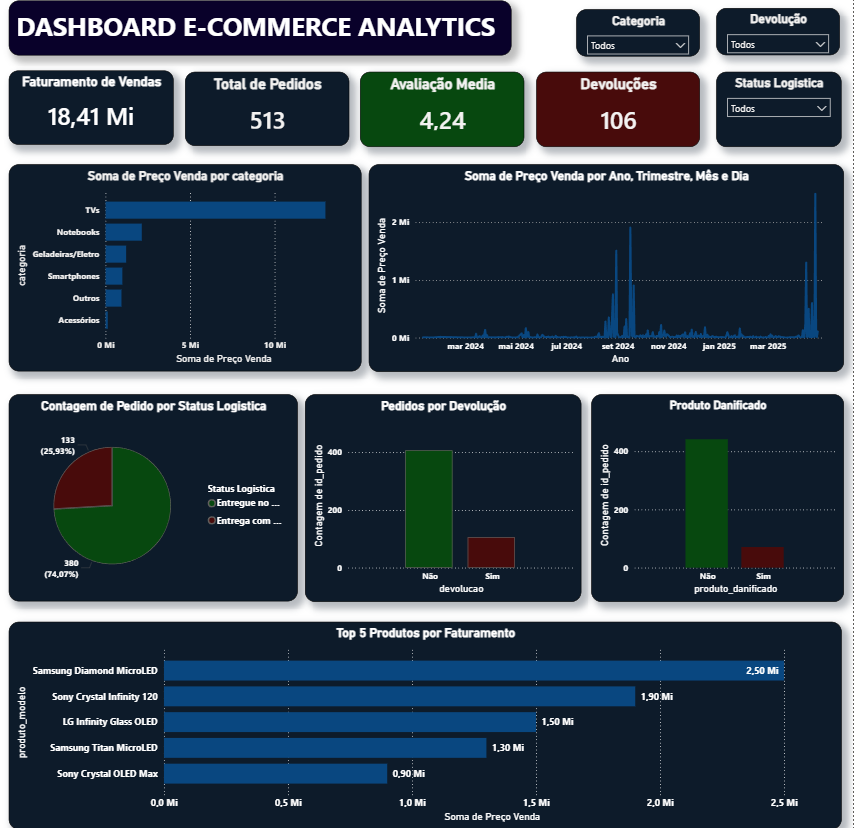

Layout of this report page (visuals, bound fields, positions):
{"tool":"powerbi","page":{"name":"Página 1","canvas":[1250,1250],"ordinal":0},"visuals":[{"type":"cardVisual","title":"Faturamento de Vendas","fields":{"Data":["Sum(ecommerce_db pedidos.preco_venda)"]},"box":[20.4,113.1,240.3,108.4],"z":0},{"type":"barChart","fields":{"Category":["ecommerce_db pedidos.categoria"],"Y":["Sum(ecommerce_db pedidos.preco_venda)"]},"box":[20.4,249.7,513.5,301.5],"z":1000},{"type":"pieChart","title":"Contagem de Pedido por Status Logistica","fields":{"Category":["ecommerce_db pedidos.status_logistica"],"Y":["CountNonNull(ecommerce_db pedidos.id_pedido)"]},"box":[20.4,584.2,420.9,301.5],"z":2000},{"type":"columnChart","title":"Pedidos por Devolução","fields":{"Category":["ecommerce_db pedidos.devolucao"],"Y":["CountNonNull(ecommerce_db pedidos.id_pedido)"]},"box":[451.4,584.2,402.2,302.1],"z":3000},{"type":"textbox","box":[20,10.9,731.7,80.1],"z":4000},{"type":"cardVisual","title":"Avaliação Media","fields":{"Data":["Avg(ecommerce_db pedidos.avaliacao)"]},"box":[532,113.9,239.5,109.9],"z":5000},{"type":"cardVisual","title":"Total de Pedidos","fields":{"Data":["CountNonNull(ecommerce_db pedidos.id_pedido)"]},"box":[276.8,113.9,239.5,108],"z":6000},{"type":"lineChart","fields":{"Y":["Sum(ecommerce_db pedidos.Preço Venda)"],"Category":["ecommerce_db pedidos.data_pedido.Variation.Hierarquia de datas.Ano","ecommerce_db pedidos.data_pedido.Variation.Hierarquia de datas.Trimestre","ecommerce_db pedidos.data_pedido.Variation.Hierarquia de datas.Mês","ecommerce_db pedidos.data_pedido.Variation.Hierarquia de datas.Dia"]},"box":[544.2,249.3,691.6,302.1],"z":7000},{"type":"slicer","title":"Categoria","fields":{"Values":["ecommerce_db pedidos.categoria"]},"box":[846.3,23.7,180.2,69.2],"z":8000},{"type":"slicer","title":"Devolução","fields":{"Values":["ecommerce_db pedidos.devolucao"]},"box":[1050.2,21.8,180.2,69.2],"z":9000},{"type":"slicer","title":"Status Logistica","fields":{"Values":["ecommerce_db pedidos.status_logistica"]},"box":[1050.2,114.7,182,109.2],"z":10000},{"type":"cardVisual","title":"Devoluções","fields":{"Data":["CountNonNull(ecommerce_db pedidos.devolucao)"]},"box":[788.1,114.7,238.4,109.2],"z":11000},{"type":"columnChart","title":"Produto Danificado","fields":{"Y":["CountNonNull(ecommerce_db pedidos.id_pedido)"],"Category":["ecommerce_db pedidos.produto_danificado"]},"box":[868.2,584.2,367.6,302.1],"z":12000},{"type":"barChart","title":"Top 5 Produtos por Faturamento","fields":{"Category":["ecommerce_db pedidos.produto_modelo"],"Y":["Sum(ecommerce_db pedidos.Preço Venda)"]},"box":[19.6,914.7,1213.1,302.3],"z":13000}]}

Visuals, with their boxes in screenshot pixels (x1, y1, x2, y2):
"Faturamento de Vendas" cardVisual: 7,72,170,145
barChart - ecommerce_db pedidos.categoria x Sum(ecommerce_db pedidos.preco_venda): 7,165,355,369
"Contagem de Pedido por Status Logistica" pieChart: 7,391,292,595
"Pedidos por Devolução" columnChart: 299,391,571,595
textbox: 7,3,502,57
"Avaliação Media" cardVisual: 353,73,515,147
"Total de Pedidos" cardVisual: 181,73,343,146
lineChart - Sum(ecommerce_db pedidos.Preço Venda) x ecommerce_db pedidos.data_pedido.Variation.Hierarquia de datas.Ano: 362,164,830,369
"Categoria" slicer: 566,12,688,58
"Devolução" slicer: 704,10,826,57
"Status Logistica" slicer: 704,73,827,147
"Devoluções" cardVisual: 527,73,688,147
"Produto Danificado" columnChart: 581,391,830,595
"Top 5 Produtos por Faturamento" barChart: 7,615,827,819
